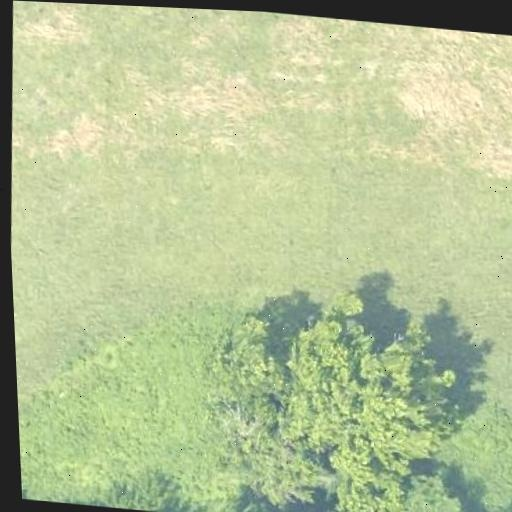tree-top: (266, 290, 463, 512), (196, 300, 301, 436), (82, 462, 204, 512), (396, 464, 471, 512)
